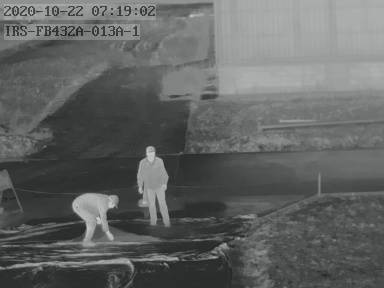person: (137, 145, 170, 227), (72, 191, 119, 246)
